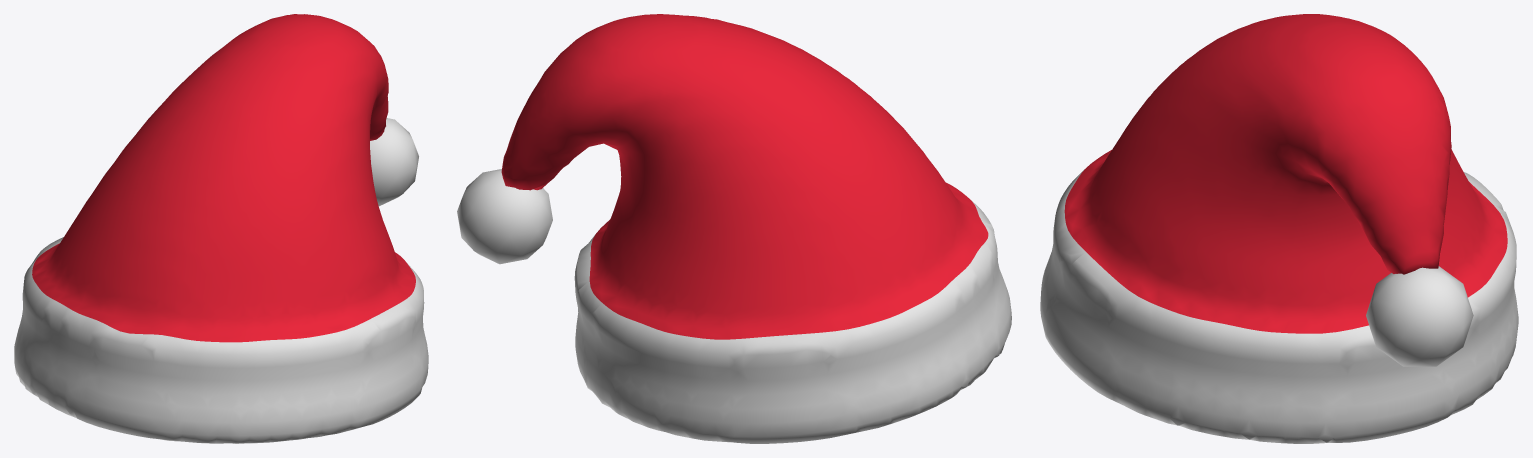
Rendered from santaHat.glb.
3 renders of one model, left to right at view 1: azimuth 30°, elevation 25°; view 2: azimuth 150°, elevation 25°; view 3: azimuth 270°, elevation 25°, orthographic. The views are drawn at different scales.
Visible parts, largest first — view 1: Circle.042; view 2: Circle.042; view 3: Circle.042.
Part boxes in pixels (box(x1,y1,x2,y2)): Circle.042: box(14, 14, 428, 443); Circle.042: box(457, 14, 1011, 443); Circle.042: box(1040, 14, 1518, 443).
Size of the model in its own units: 2.14 by 1.54 by 1.79.
